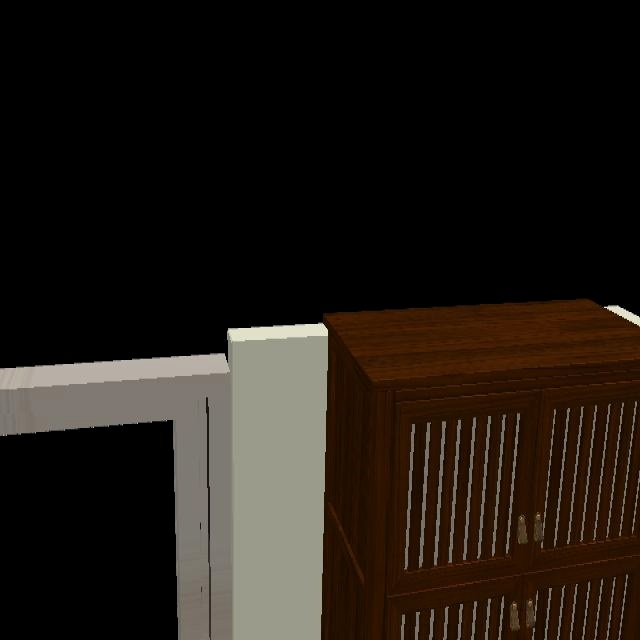wardrobe: (320, 299, 640, 640)
